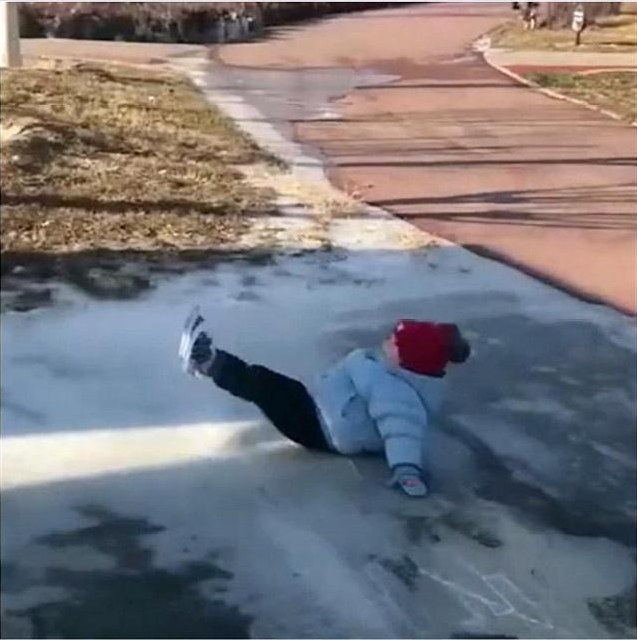down: (163, 294, 484, 513)
